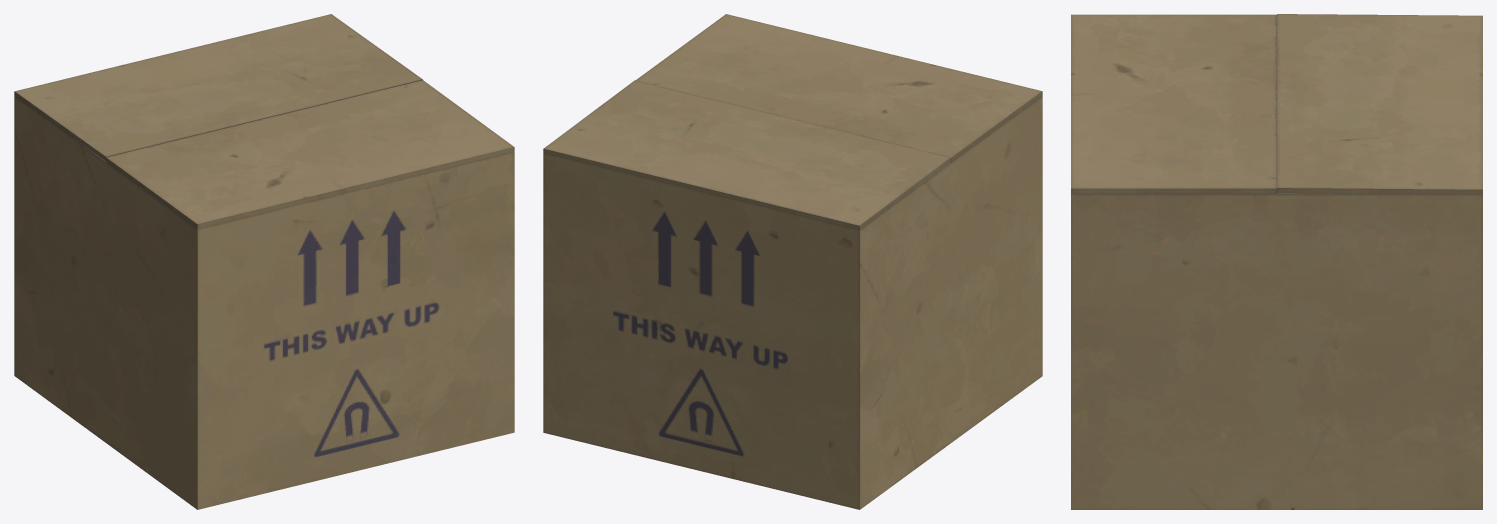
3 views of the same model, side by side, from view 1: azimuth 30°, elevation 25°; view 2: azimuth 150°, elevation 25°; view 3: azimuth 270°, elevation 25° (orthographic). The views are drawn at different scales.
Visible parts, largest first — view 1: Box; view 2: Box; view 3: Box.
Part boxes in pixels (x1,y1,x2,y2): Box: (14, 14, 514, 509); Box: (543, 14, 1042, 509); Box: (1071, 14, 1482, 509).
Size of the model in its own units: 0.7246 by 0.625 by 0.7247.
Materials: 1 (1 with a texture image).
